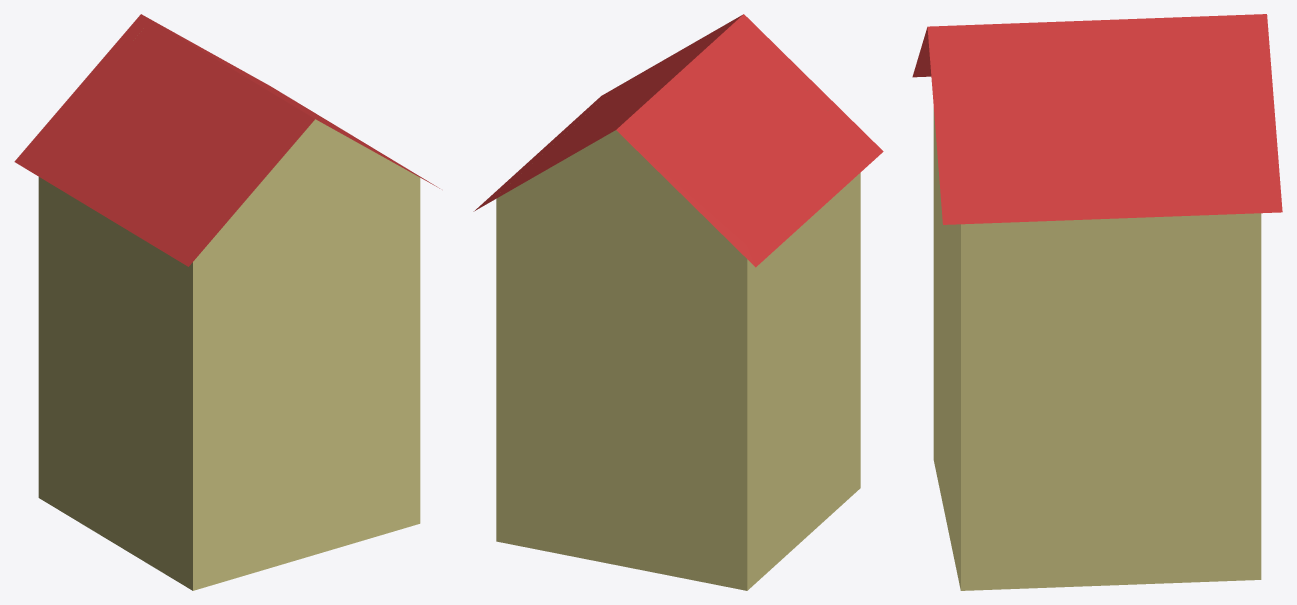
The picture shows the model from 3 angles, left to right: view 1: azimuth 30°, elevation 25°; view 2: azimuth 150°, elevation 25°; view 3: azimuth 270°, elevation 25°; orthographic projection. The views are drawn at different scales.
Bounding box in the file's own units: 4.82 × 4.71 × 7.
